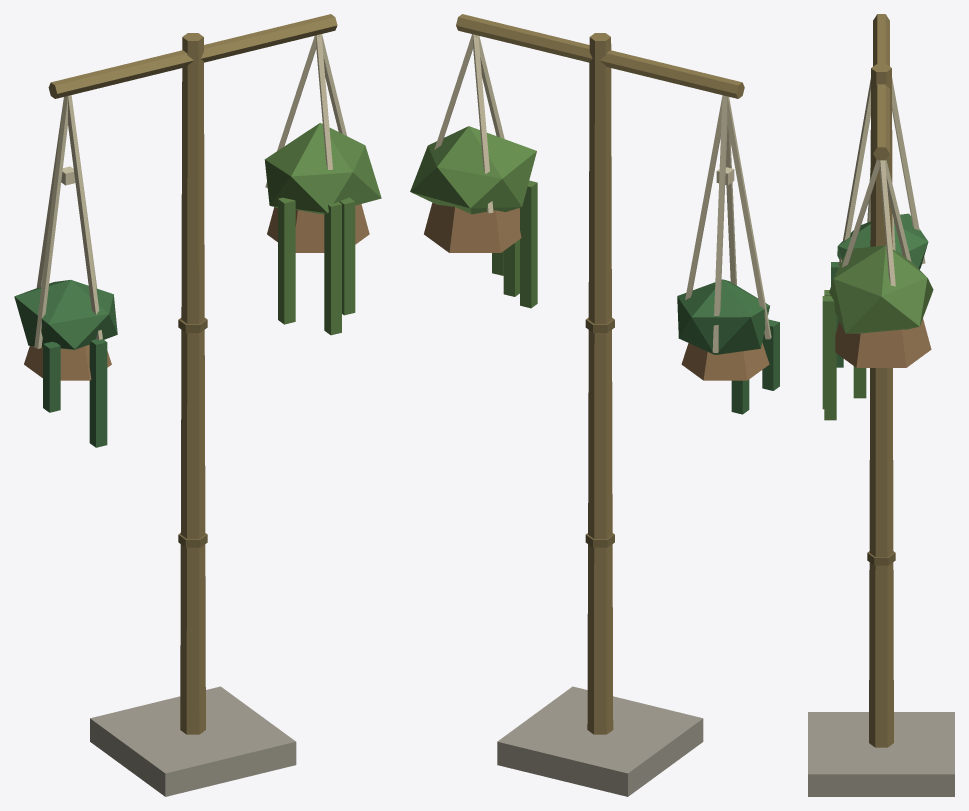
The model's file is plant-hanger-31.glb.
3 renders of one model, left to right at view 1: azimuth 30°, elevation 25°; view 2: azimuth 150°, elevation 25°; view 3: azimuth 270°, elevation 25°, orthographic. The views are drawn at different scales.
Visible parts, largest first — view 1: plant_hanger_31; view 2: plant_hanger_31; view 3: plant_hanger_31.
Part boxes in pixels (<box>): plant_hanger_31: <box>14,14,381,796</box>; plant_hanger_31: <box>410,14,779,796</box>; plant_hanger_31: <box>808,14,954,796</box>.
Bounding box in the file's own units: 0.9025 × 1.83 × 0.3499.
